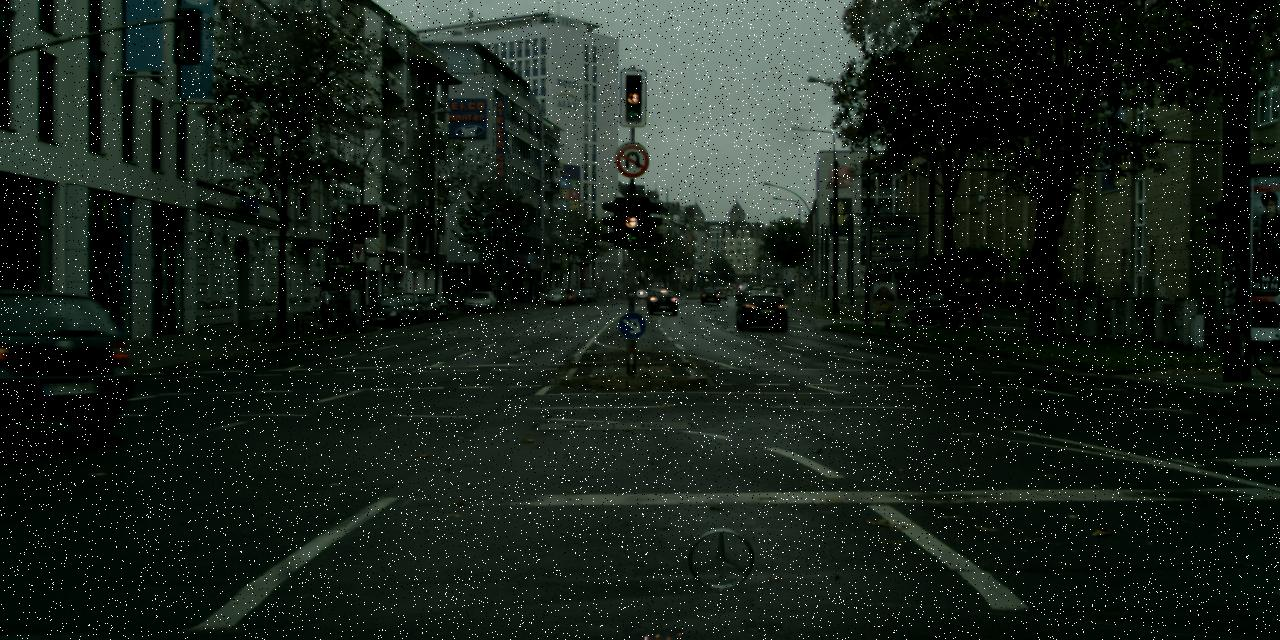ped: (316, 280, 332, 320)
